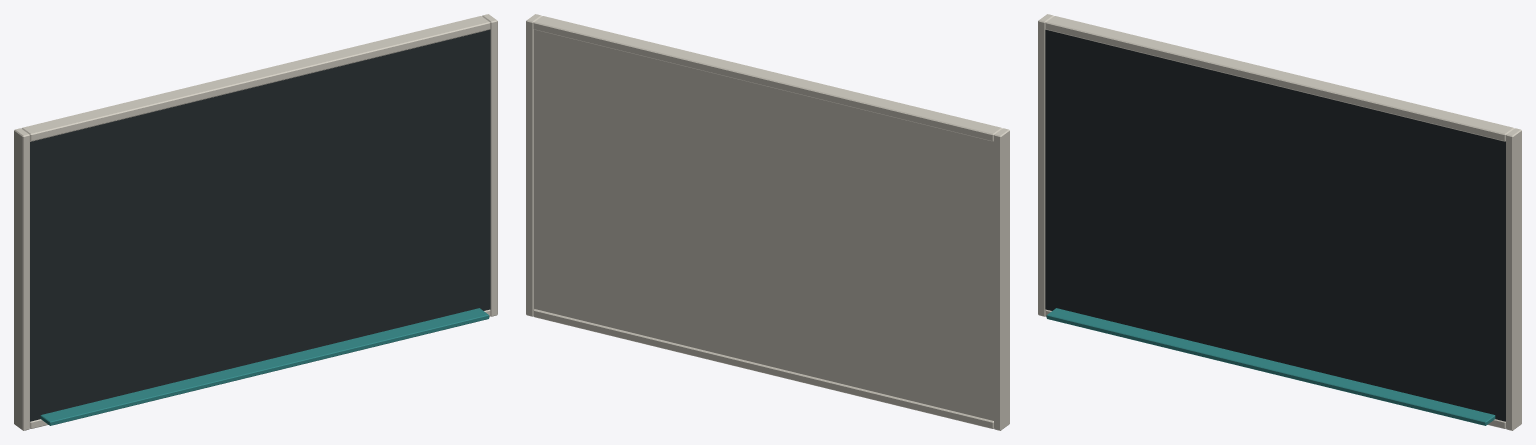
Rendered from rsa_blackboard.glb.
3 renders of one model, left to right at view 1: azimuth 30°, elevation 25°; view 2: azimuth 150°, elevation 25°; view 3: azimuth 330°, elevation 25°, orthographic.
Visible parts, largest first — view 1: blackboard_face, blackboard_frame, chalk_ledge; view 2: blackboard_frame; view 3: blackboard_face, blackboard_frame, chalk_ledge.
Part boxes in pixels (bbox=[...]): blackboard_face: bbox=[30, 29, 490, 421]; blackboard_frame: bbox=[14, 14, 497, 430]; chalk_ledge: bbox=[40, 308, 489, 425]; blackboard_frame: bbox=[526, 14, 1009, 430]; blackboard_face: bbox=[1045, 29, 1505, 421]; blackboard_frame: bbox=[1038, 14, 1521, 430]; chalk_ledge: bbox=[1046, 308, 1495, 425].
Size of the model in its own units: 1.6 by 0.95 by 0.108.
